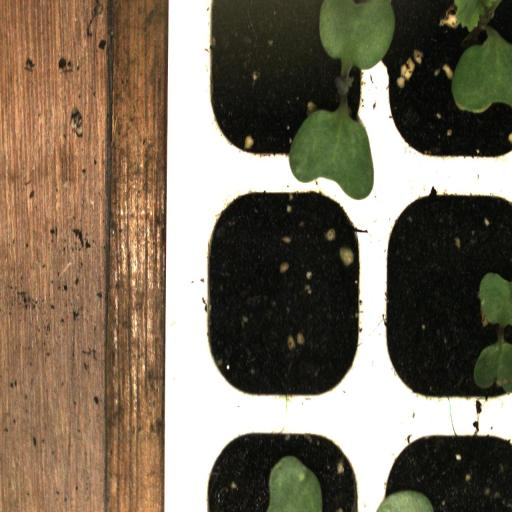noseedling: (192, 176, 374, 410)
seedling: (191, 1, 375, 177)
weak: (375, 177, 512, 411)
